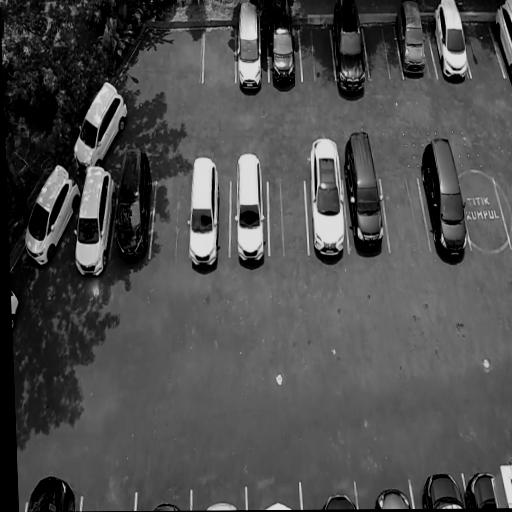Car: (13, 155, 84, 277), (418, 133, 472, 271), (68, 70, 133, 173), (69, 164, 119, 283), (111, 143, 156, 267), (308, 136, 348, 267), (344, 130, 385, 257), (232, 149, 268, 270), (329, 0, 371, 100), (188, 152, 221, 277), (430, 0, 474, 88), (233, 0, 266, 100), (394, 0, 431, 84), (266, 3, 299, 95), (25, 471, 82, 512), (417, 470, 466, 509), (492, 0, 512, 86), (464, 469, 501, 508), (318, 486, 359, 510), (372, 486, 412, 509), (143, 494, 186, 511), (10, 270, 20, 337), (204, 495, 239, 510), (259, 497, 294, 510)
Space Available: (460, 176, 512, 249), (149, 178, 192, 263), (382, 175, 429, 251), (268, 178, 308, 257), (364, 18, 402, 85), (462, 16, 502, 77), (299, 22, 335, 83), (203, 24, 236, 86), (81, 488, 136, 512), (496, 174, 512, 245)
